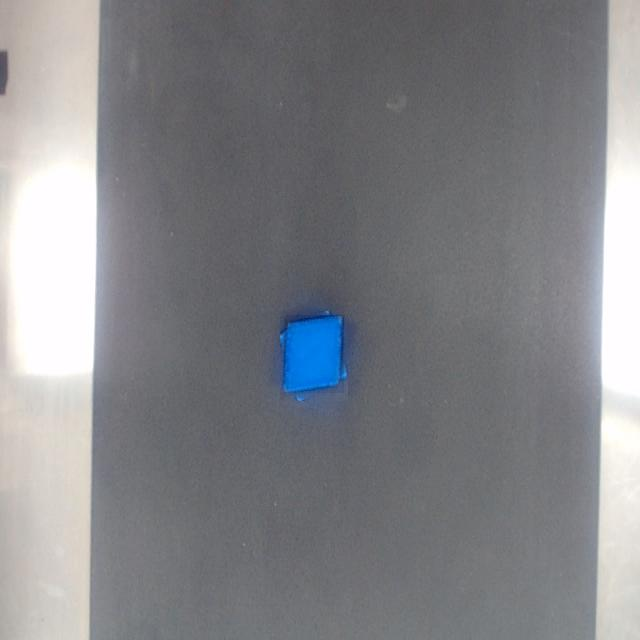Azul: (284, 316, 344, 393)
